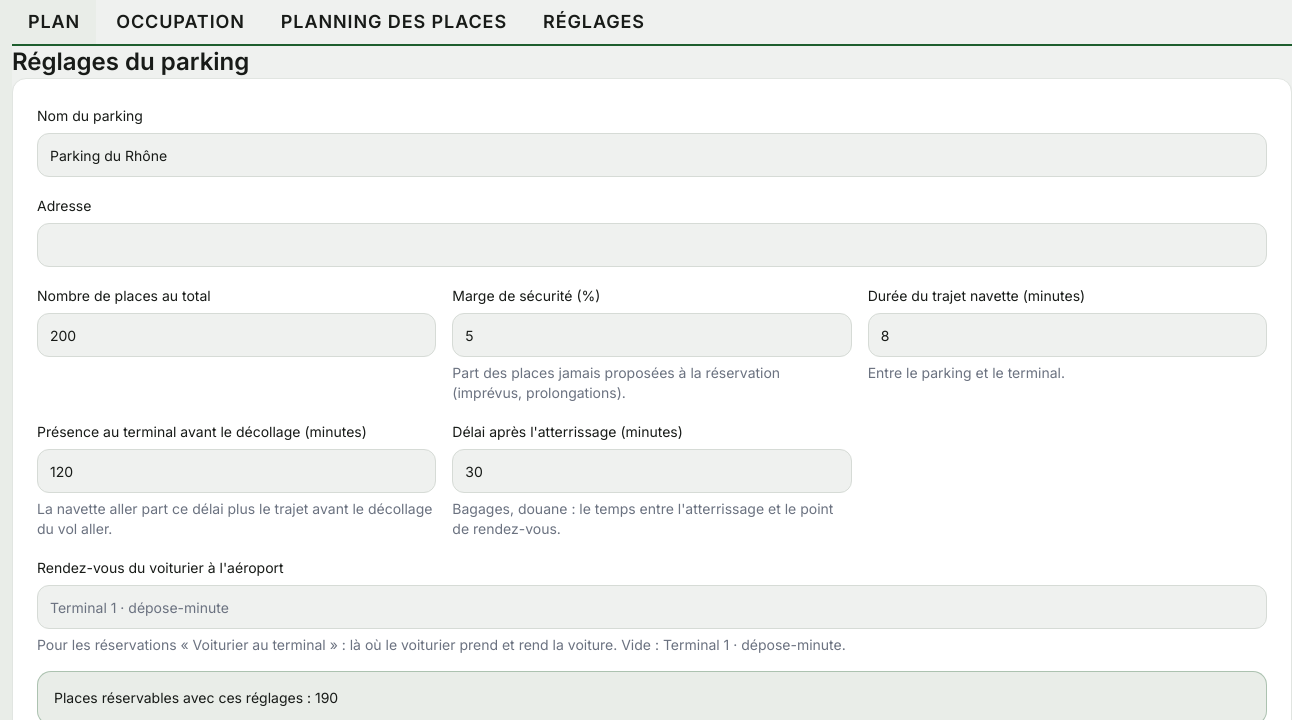
Test: Réglages du parking : capacité (09/10/2026) › sans plan, le nombre de places se saisit et l'aperçu suit la saisie
Replace the text in the number field labelled "Nombre de places au total" with "100" at (237, 335), box left=37, top=313, right=436, bottom=357
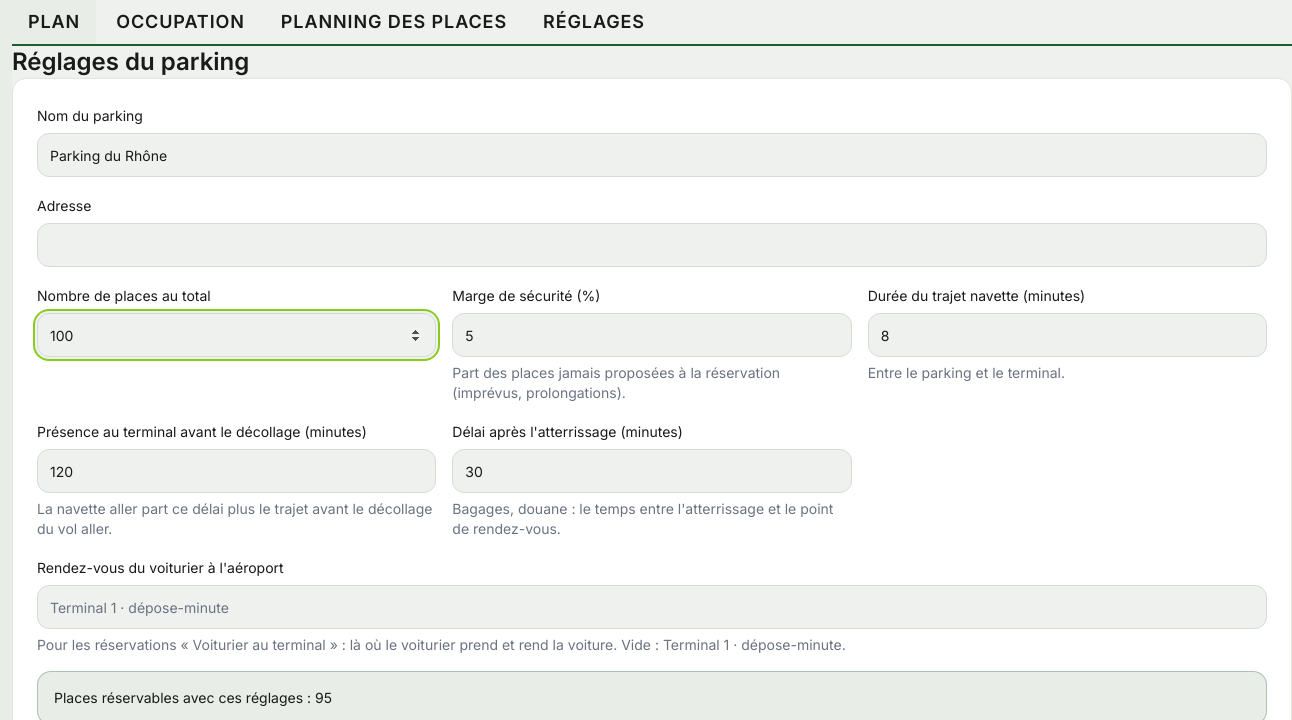
Expected: the text "Places réservables avec ces réglages : 95" is shown, left=54, top=689, right=332, bottom=706
